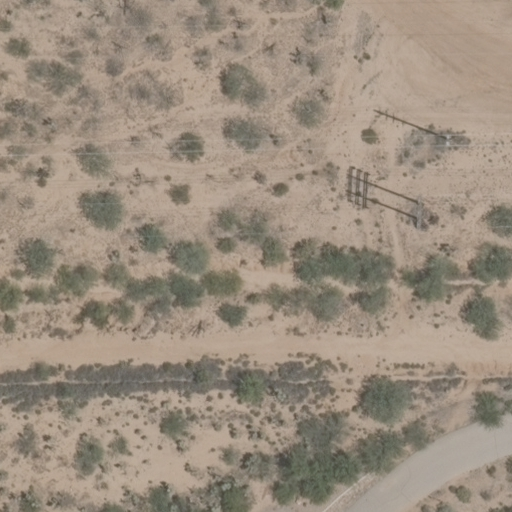DT: (376, 112, 450, 143)
TT: (340, 170, 419, 223)
